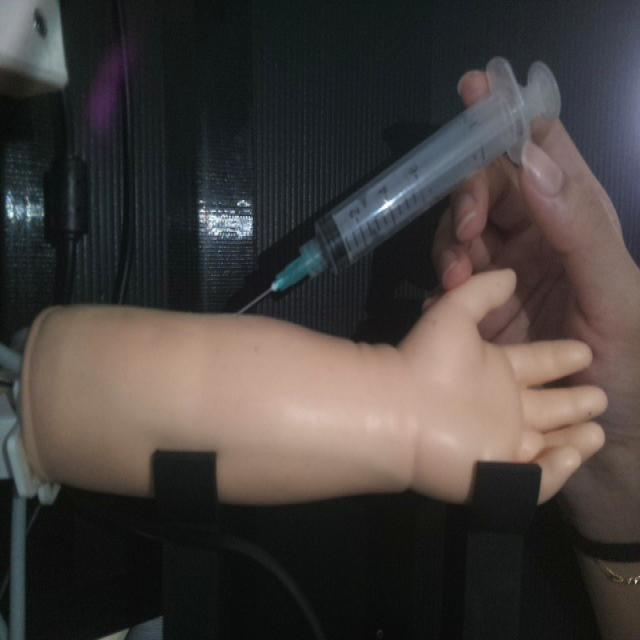Above 30 degrees: (230, 53, 562, 316)
